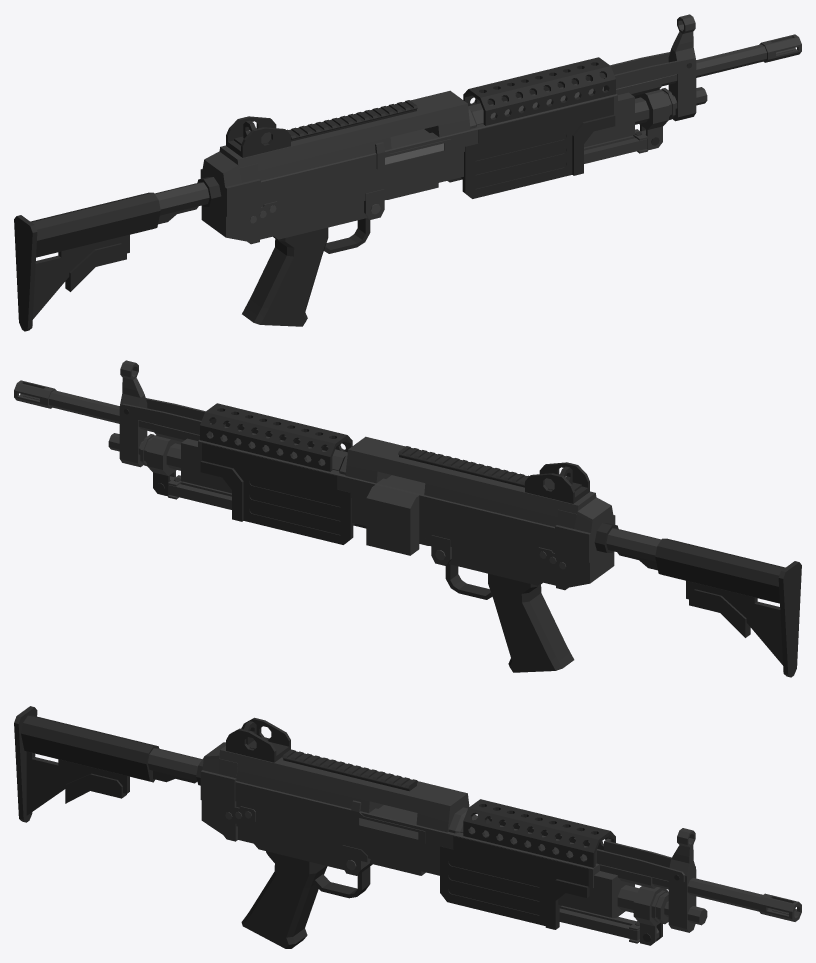
File: LMG2_01.fbx
3 views of the same model, one above another, from view 1: azimuth 30°, elevation 25°; view 2: azimuth 150°, elevation 25°; view 3: azimuth 330°, elevation 25° (orthographic).
Parts seen in each view (by area): view 1: LMG2_01; view 2: LMG2_01; view 3: LMG2_01.
Part boxes in pixels (box(x1,y1,x2,y2)): LMG2_01: box(14, 14, 801, 331); LMG2_01: box(14, 360, 801, 677); LMG2_01: box(14, 706, 801, 948).
Bounding box in the file's own units: 1.13 × 0.2931 × 0.0903.
